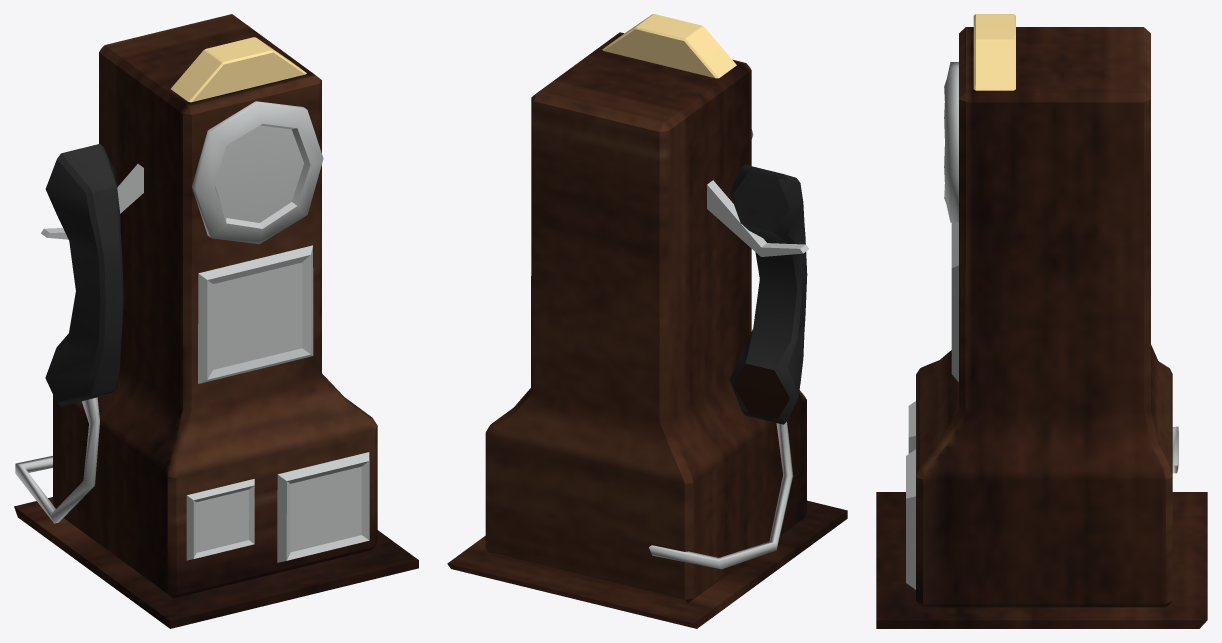
Rendered from Tower_Station_Telephone_Art.fbx.
3 renders of one model, left to right at view 1: azimuth 30°, elevation 25°; view 2: azimuth 150°, elevation 25°; view 3: azimuth 270°, elevation 25°, orthographic. The views are drawn at different scales.
Visible parts, largest first — view 1: Tower_Station_Telephone_Art; view 2: Tower_Station_Telephone_Art; view 3: Tower_Station_Telephone_Art.
Part boxes in pixels (left/top/right/bottom): Tower_Station_Telephone_Art: left=14, top=14, right=418, bottom=628; Tower_Station_Telephone_Art: left=447, top=14, right=847, bottom=628; Tower_Station_Telephone_Art: left=876, top=14, right=1207, bottom=628.
Size of the model in its own units: 68.52 by 114 by 63.75.
